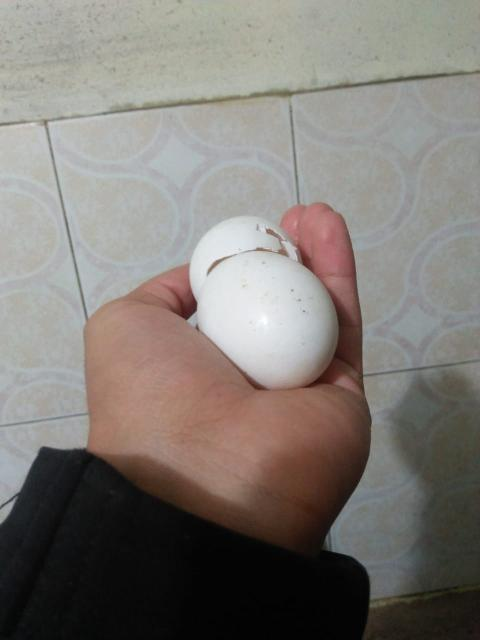Roto: (191, 213, 341, 388)
